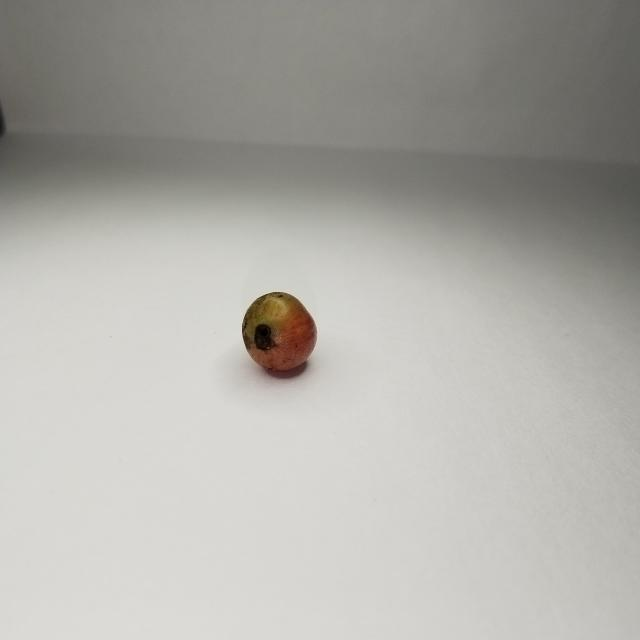Infectado: (242, 292, 316, 375)
